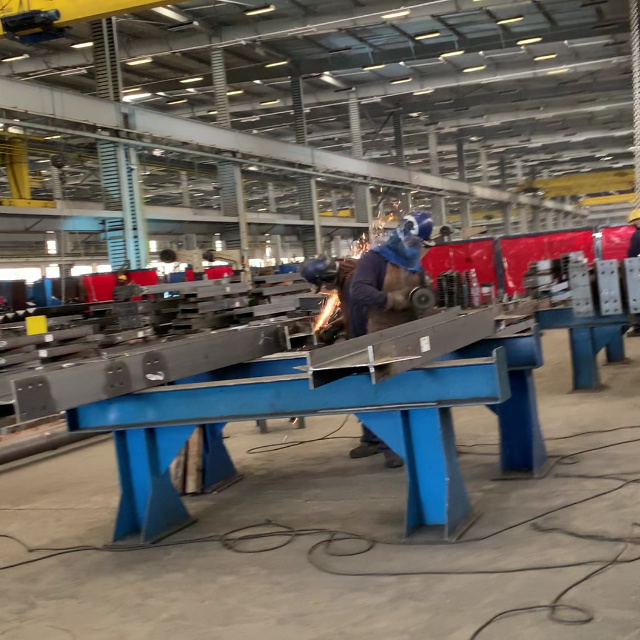face-shield: (398, 236, 422, 271)
glove: (384, 290, 410, 311)
helmet: (401, 209, 436, 241)
person: (348, 210, 433, 318)
safety-shoe: (346, 443, 385, 459), (383, 449, 405, 466)
